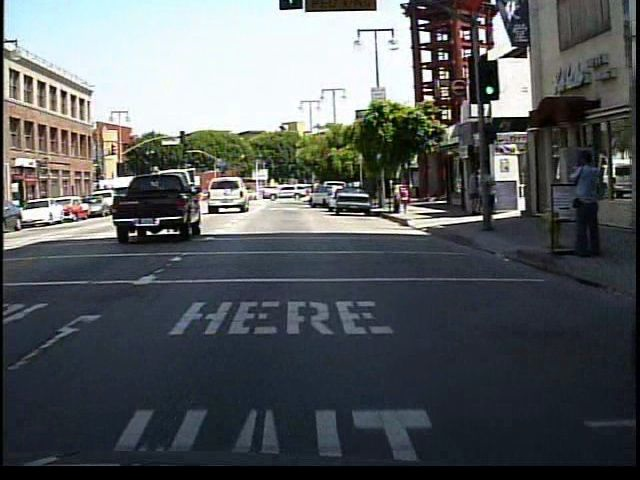person: (561, 147, 600, 261), (476, 162, 501, 230), (466, 168, 481, 217)
